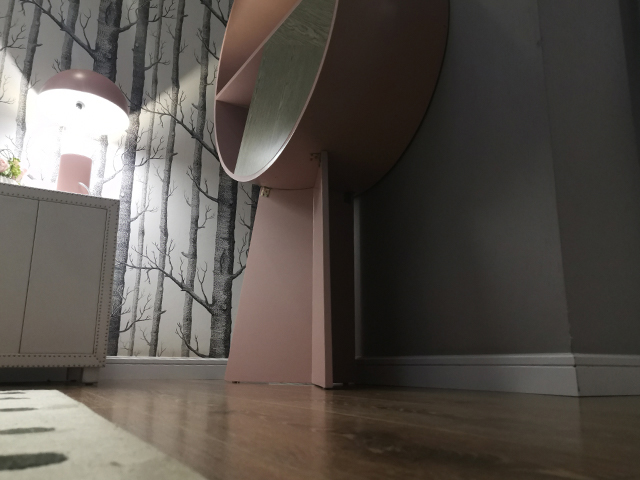cabinet: (1, 182, 123, 389)
carpet: (1, 387, 213, 480)
